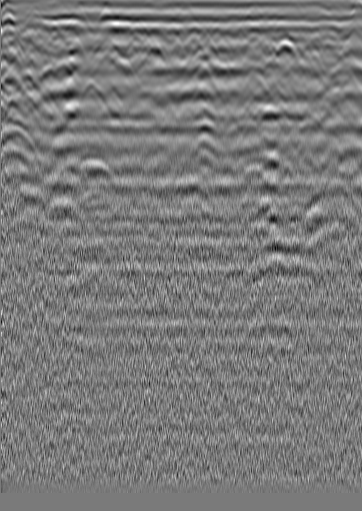가스: (69, 158, 111, 193)
상수: (339, 28, 361, 49)
오수: (9, 24, 29, 44)
우수: (182, 22, 202, 42)
